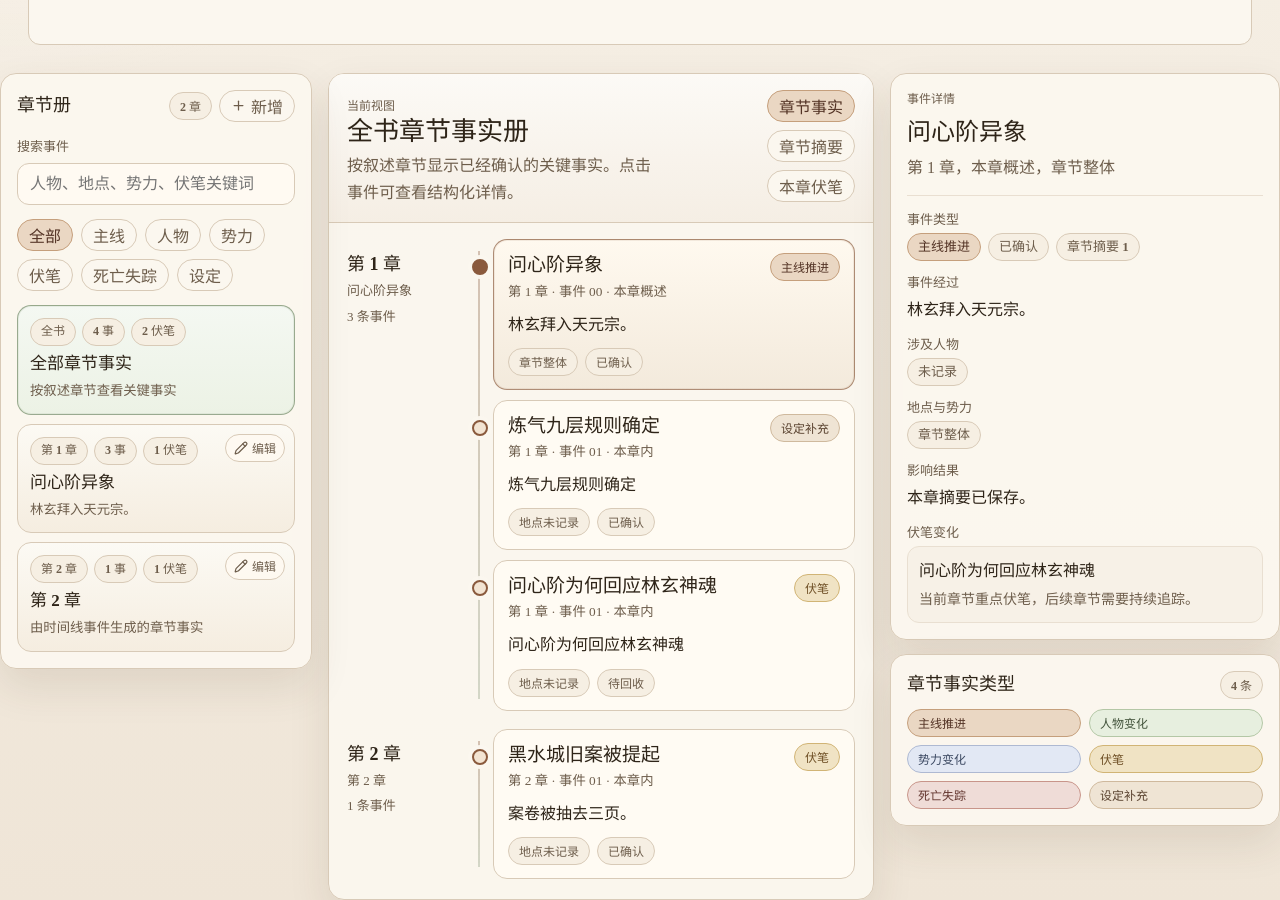
Test: ChapterOverviewWorkspace › renders the chapter fact book and updates detail after event selection
The width and height of the screenshot is (1280, 900).
(page scrolled)
Expected: the heading "章节册" is shown, [17,95,71,117]
Expected: the heading "全书章节事实册" is shown, [347,117,529,146]
Click the button "黑水城旧案被提起 第 2 章 · 事件 01 · 本章内 伏笔 案卷被抽去三页。 地点未记录 已确认" at (584, 754), box [493,729,855,879]
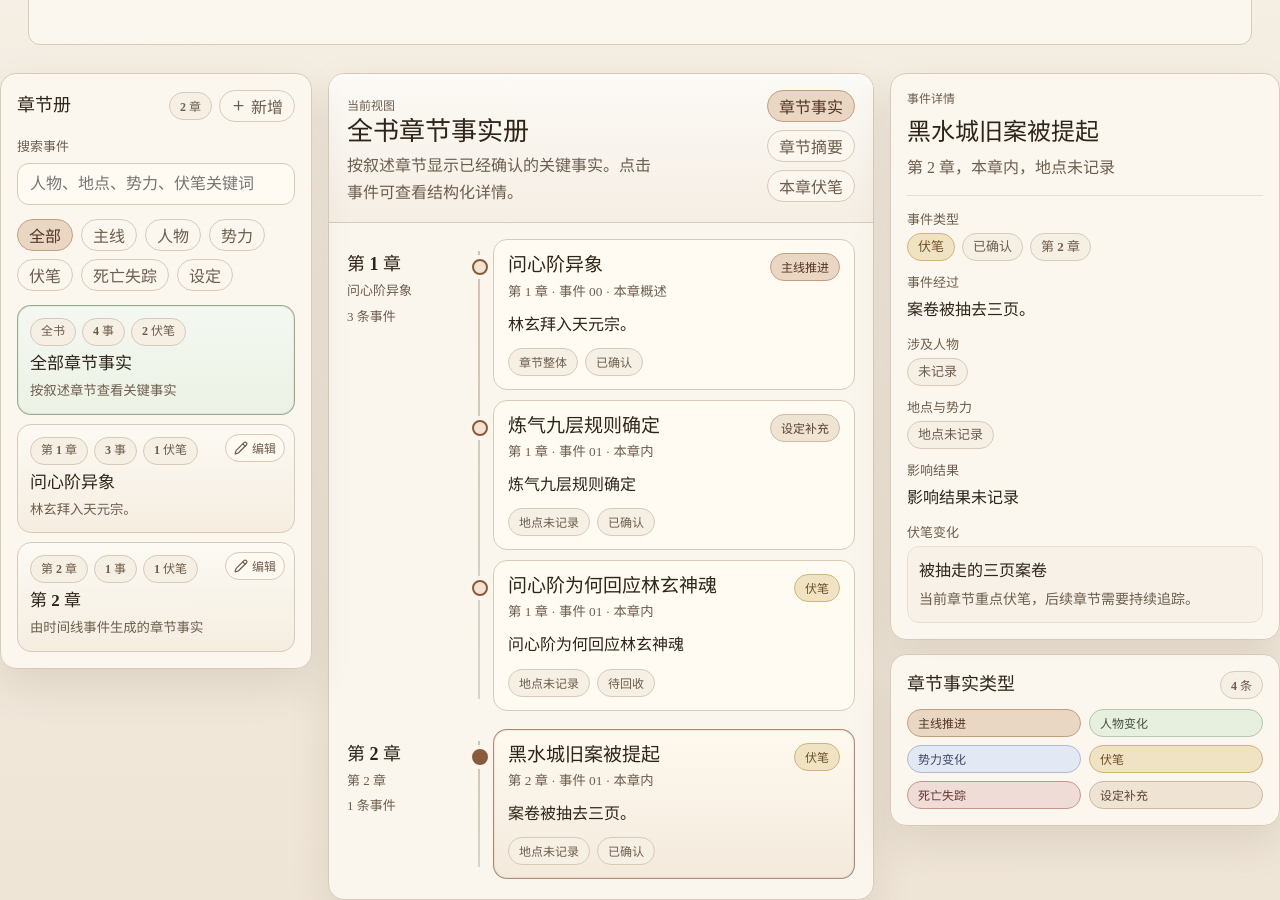
Expected: the element with class "chapterOverviewDetailCard" shows "案卷被抽去三页。", [907,301,1035,318]
Expected: the text "被抽走的三页案卷" is shown, [919,562,1047,579]
Click the button "伏笔" at (45, 275), box [17,259,73,291]
(page scrolled)
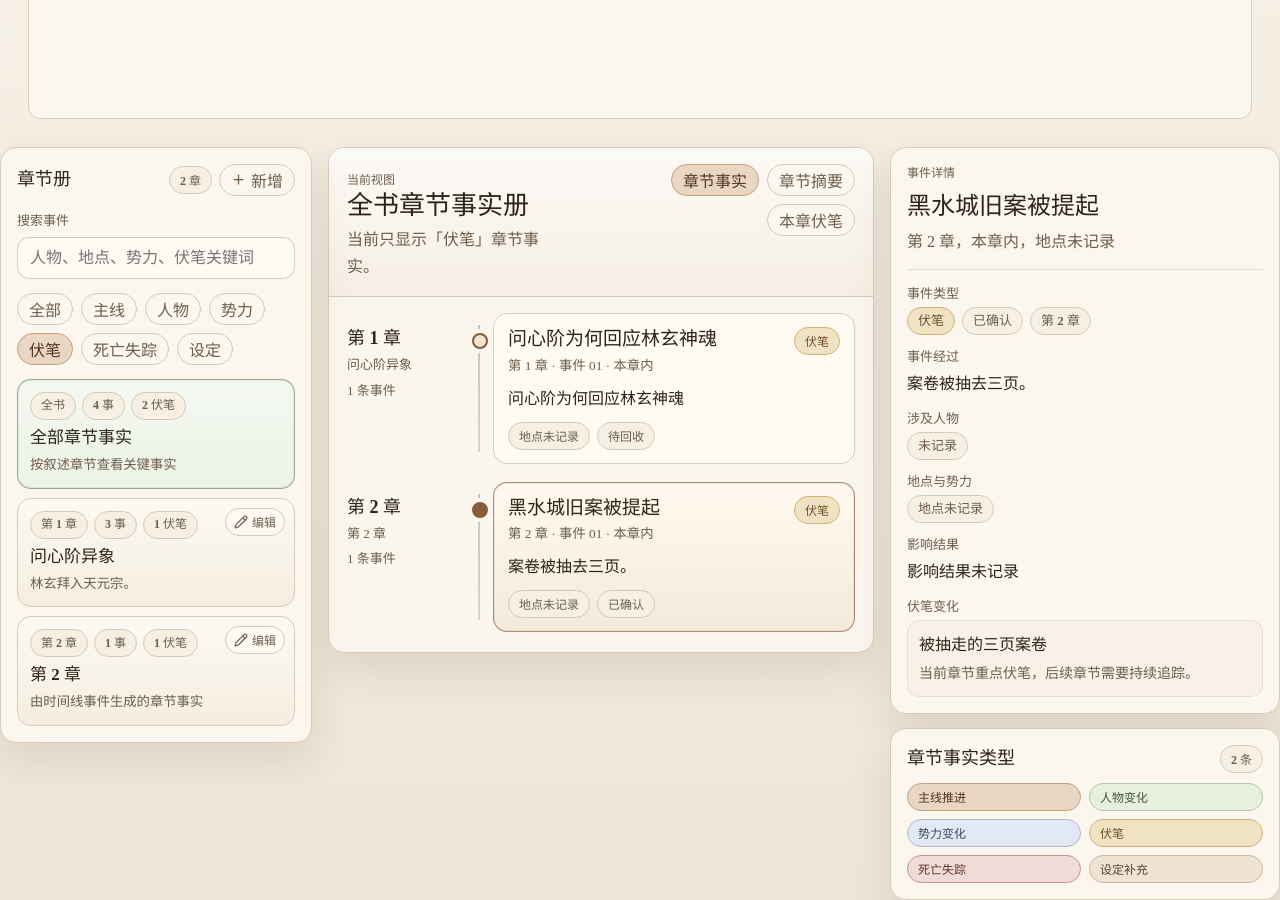
Expected: the text "当前只显示「伏笔」章节事实。" is shown, [347,228,566,280]
